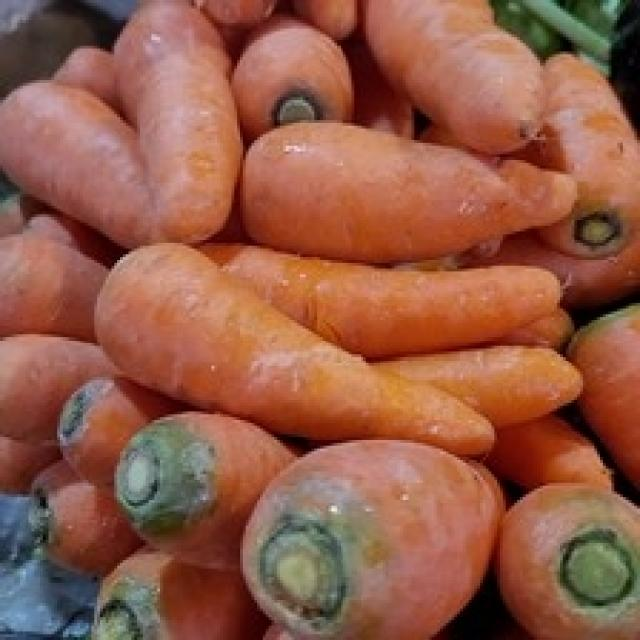carrot: (237, 0, 574, 257), (91, 240, 489, 449), (0, 0, 240, 247), (241, 440, 504, 640), (199, 245, 560, 358), (118, 414, 295, 568), (498, 484, 640, 640)
